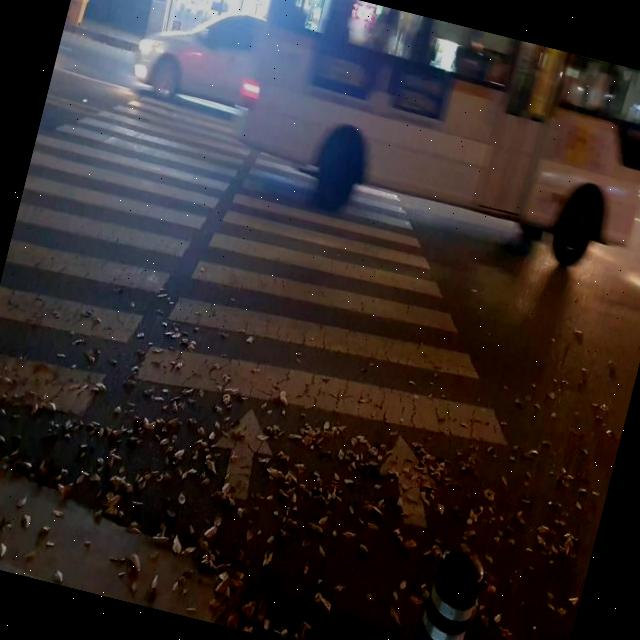crosswalk: (0, 88, 540, 546)
